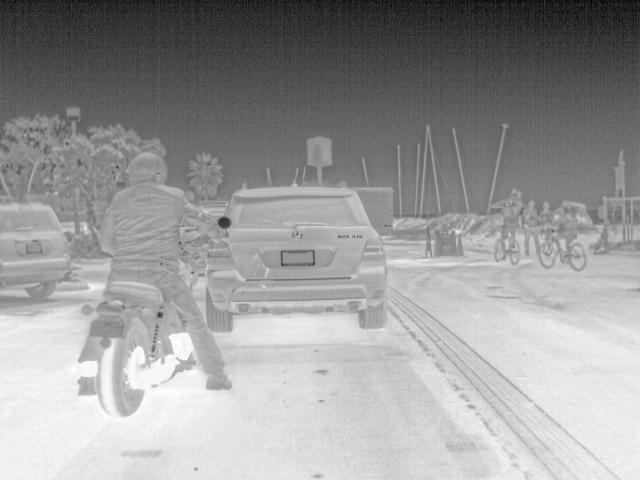car: (206, 183, 387, 331), (1, 199, 77, 308)
person: (100, 149, 236, 392), (492, 190, 524, 252), (521, 202, 542, 258), (539, 200, 556, 230)
